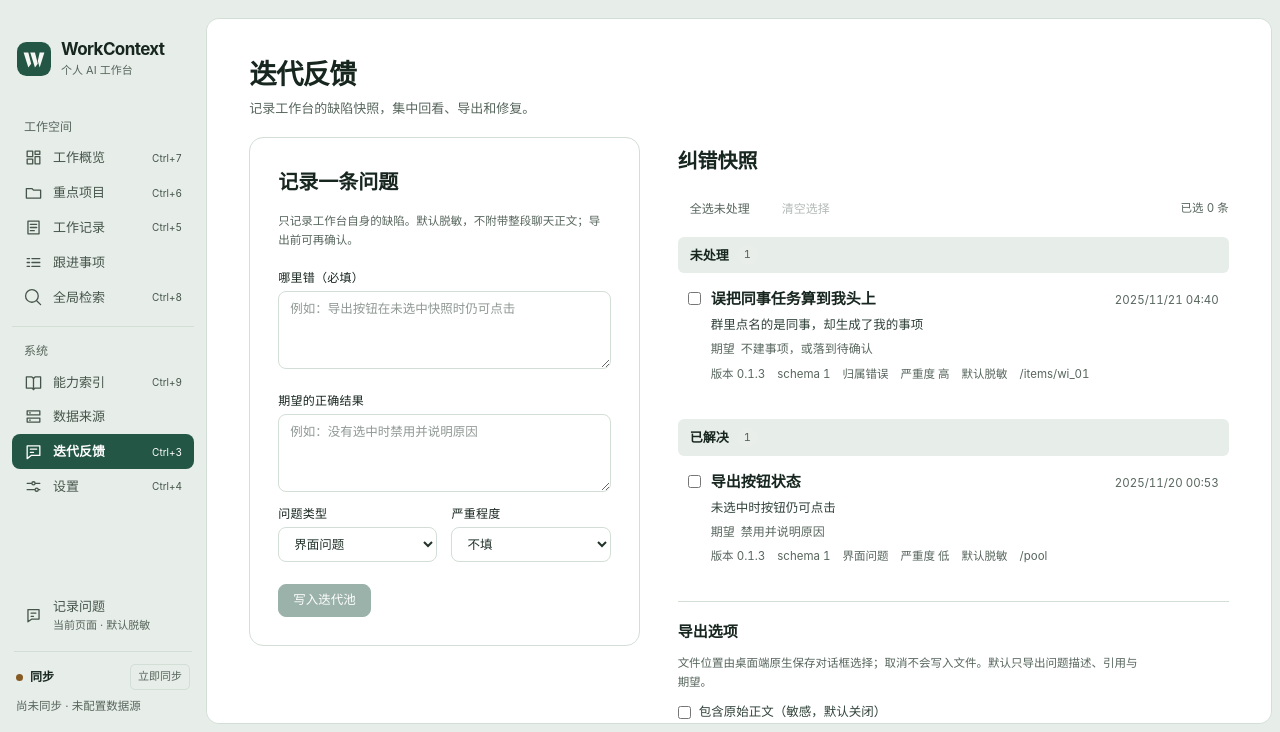
迭代池创建与导出 › 包含正文必须输入确认词，且导出参数如实反映
The image size is (1280, 732).
Expected: the text "误把同事任务算到我头上" is shown, [711,288,876,312]
Click the checkbox named "选择 误把同事任务算到我头上": coordinates (694, 299) [688,292,701,306]
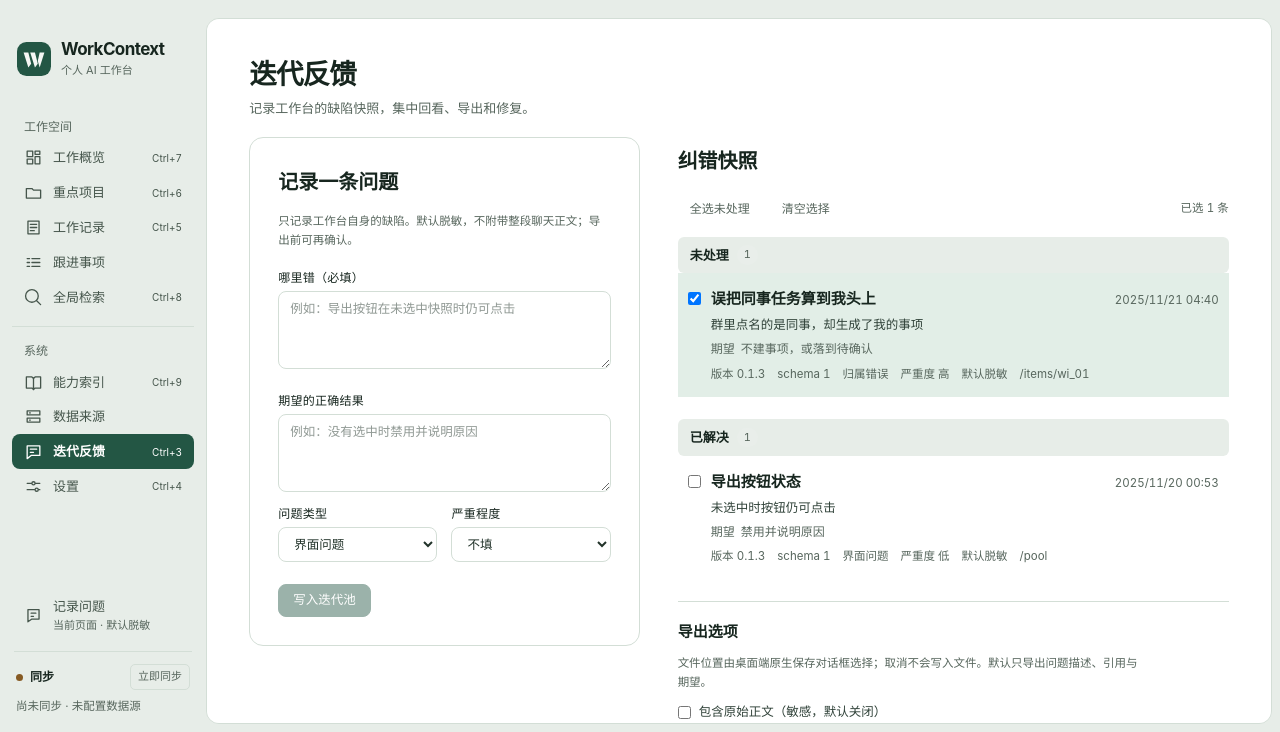
Click the checkbox labelled "包含原始正文（敏感，默认关闭）": coordinates (684, 712) [678,706,691,719]
(page scrolled)
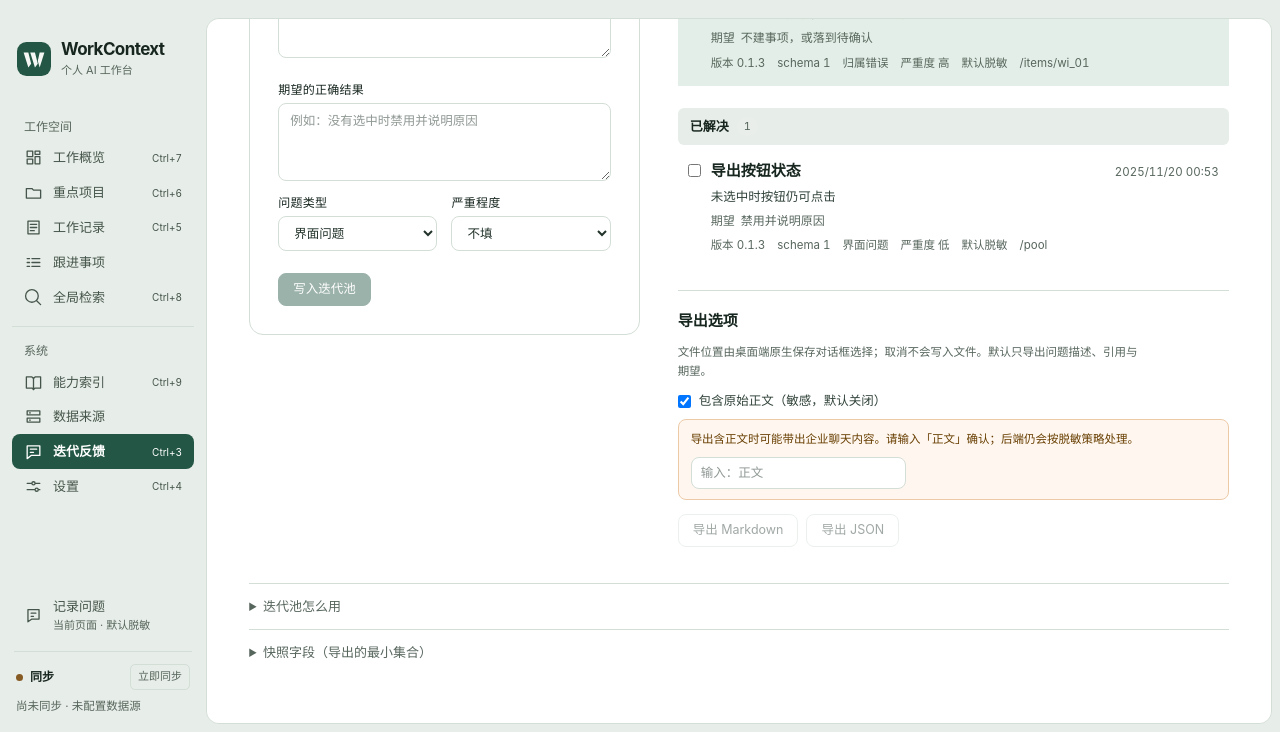
Expected: the button "导出 JSON" is disabled, [806,514,899,547]
In the field named "输入正文以确认导出含正文": coordinates (798, 473) [691,457,906,490], type "正文"
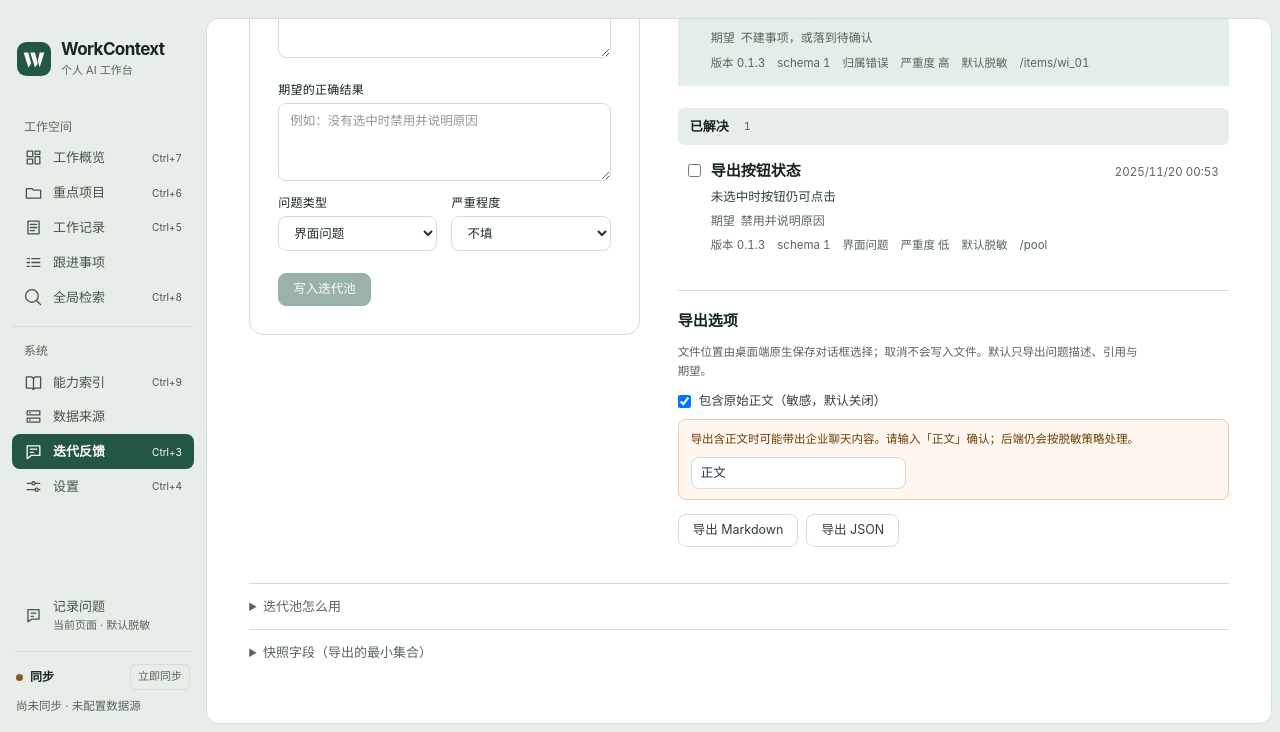
Expected: the button "导出 JSON" is enabled
Click the button "导出 JSON": coordinates (853, 531) [806,514,899,547]
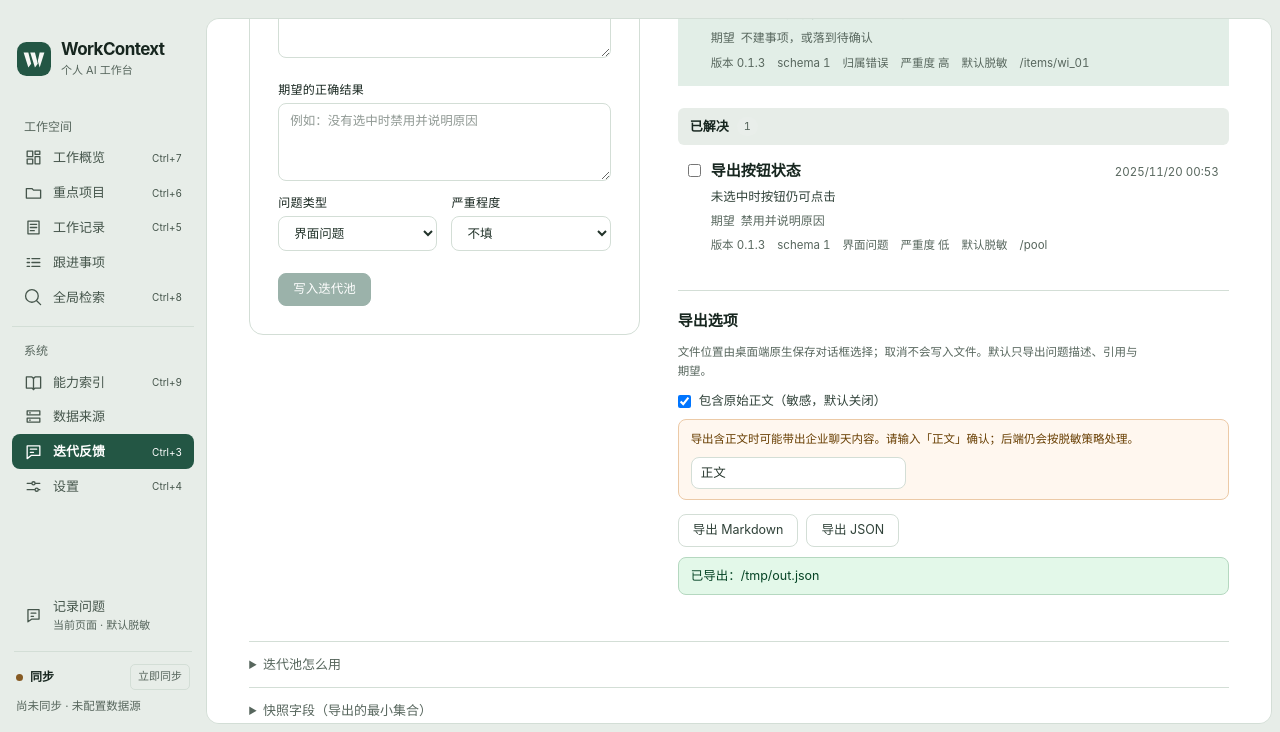
Expected: the text "/tmp/out.json" is shown, [691,568,819,583]
